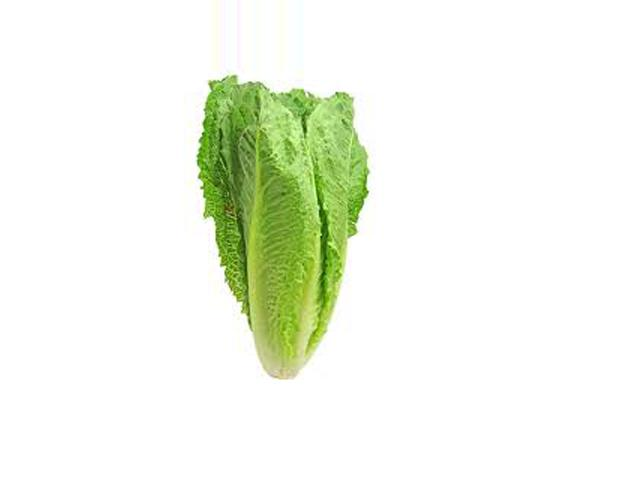lettuce: (181, 72, 378, 383)
